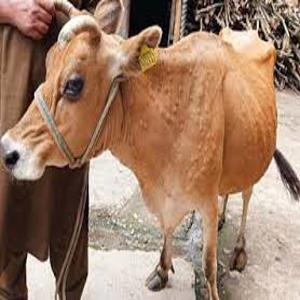lumpy skin diesease: (0, 0, 299, 299), (0, 0, 130, 299)
